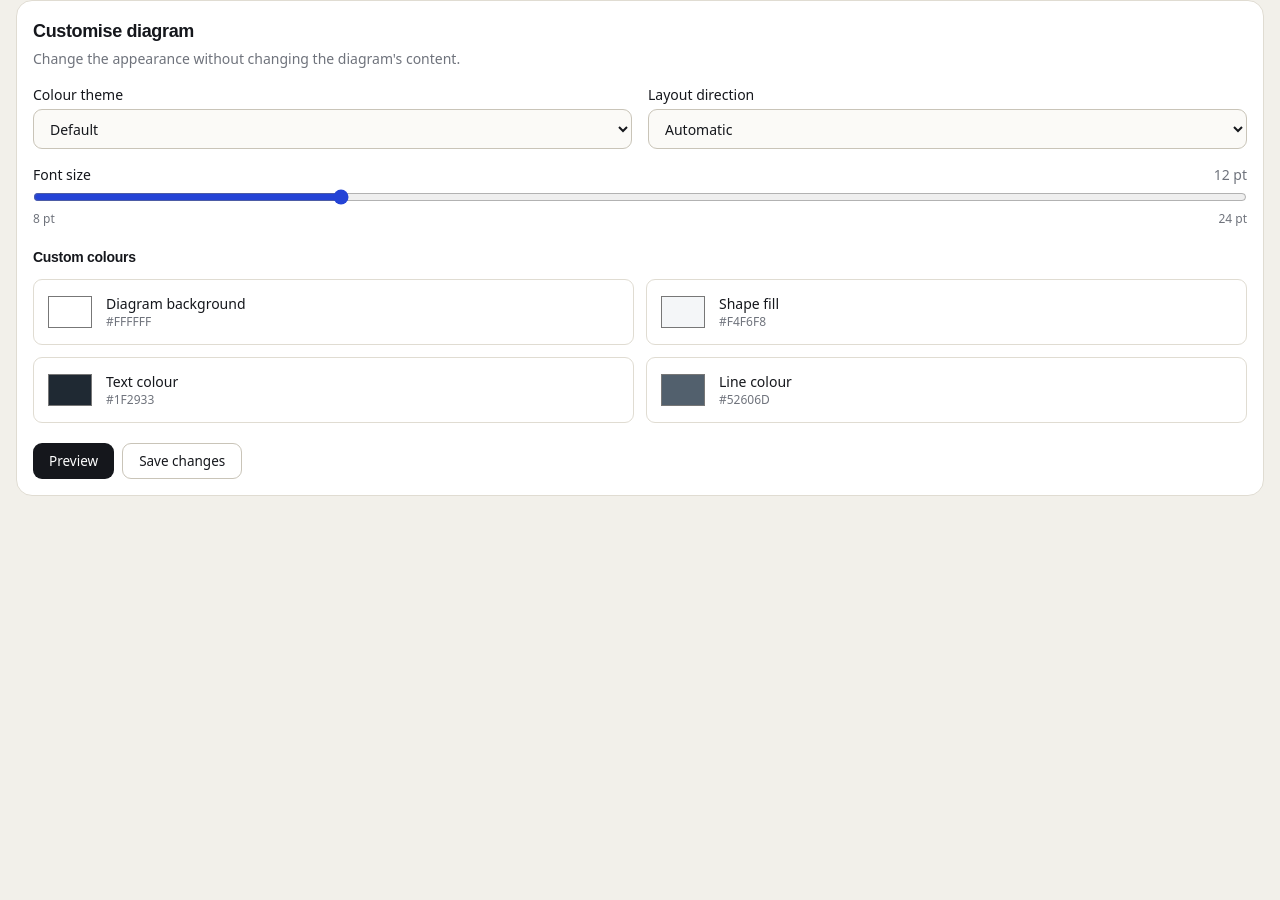
Test: StylePanel › asks for confirmation before saving low-contrast colours
The width and height of the screenshot is (1280, 900).
Check: the heading "Customise diagram" is shown, box [33,21,194,41]
Type "#ffffff" into the colour field named "Text colour" at (70, 390), box [46,370,94,410]
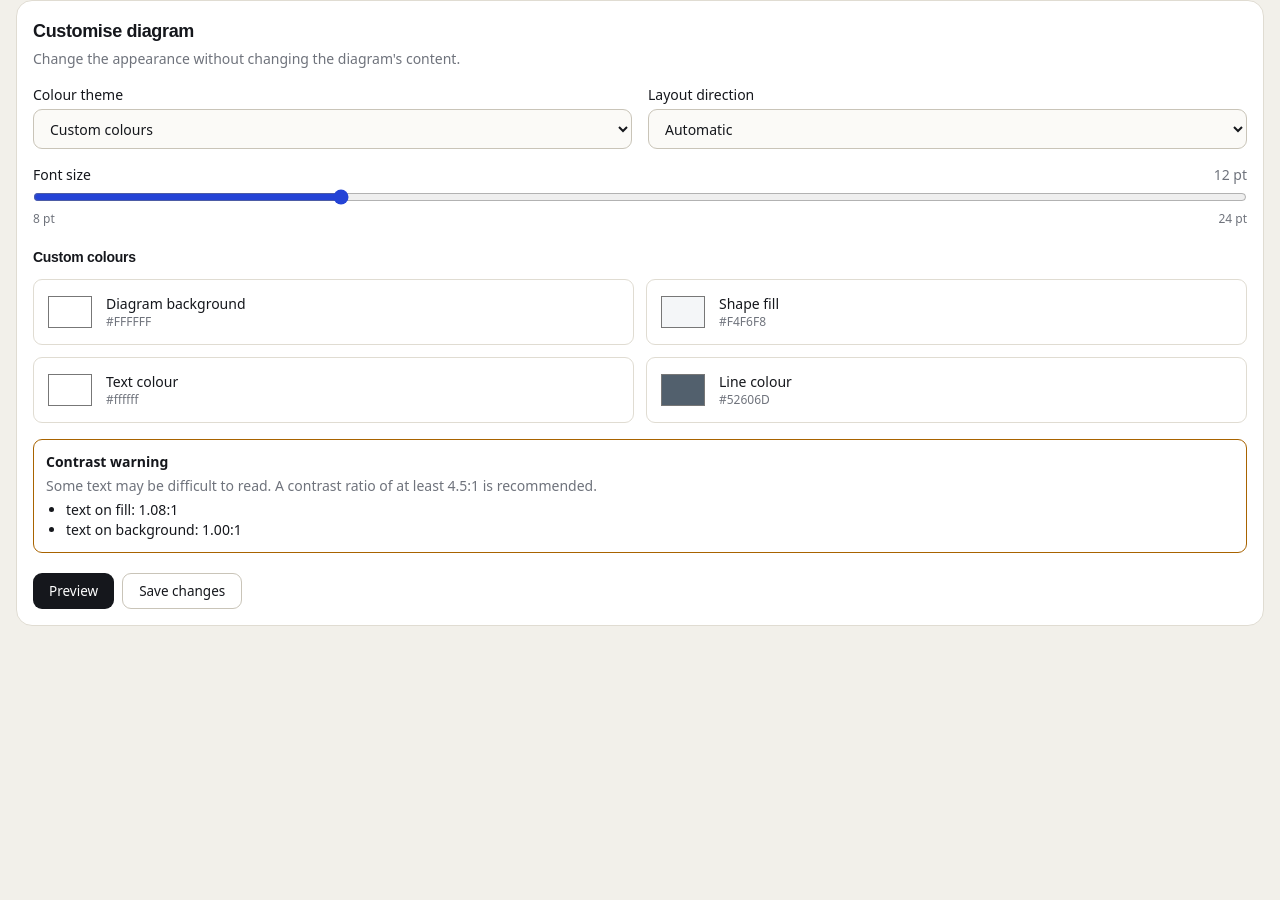
Click the button "Save changes" at (182, 591), box [122,573,242,609]
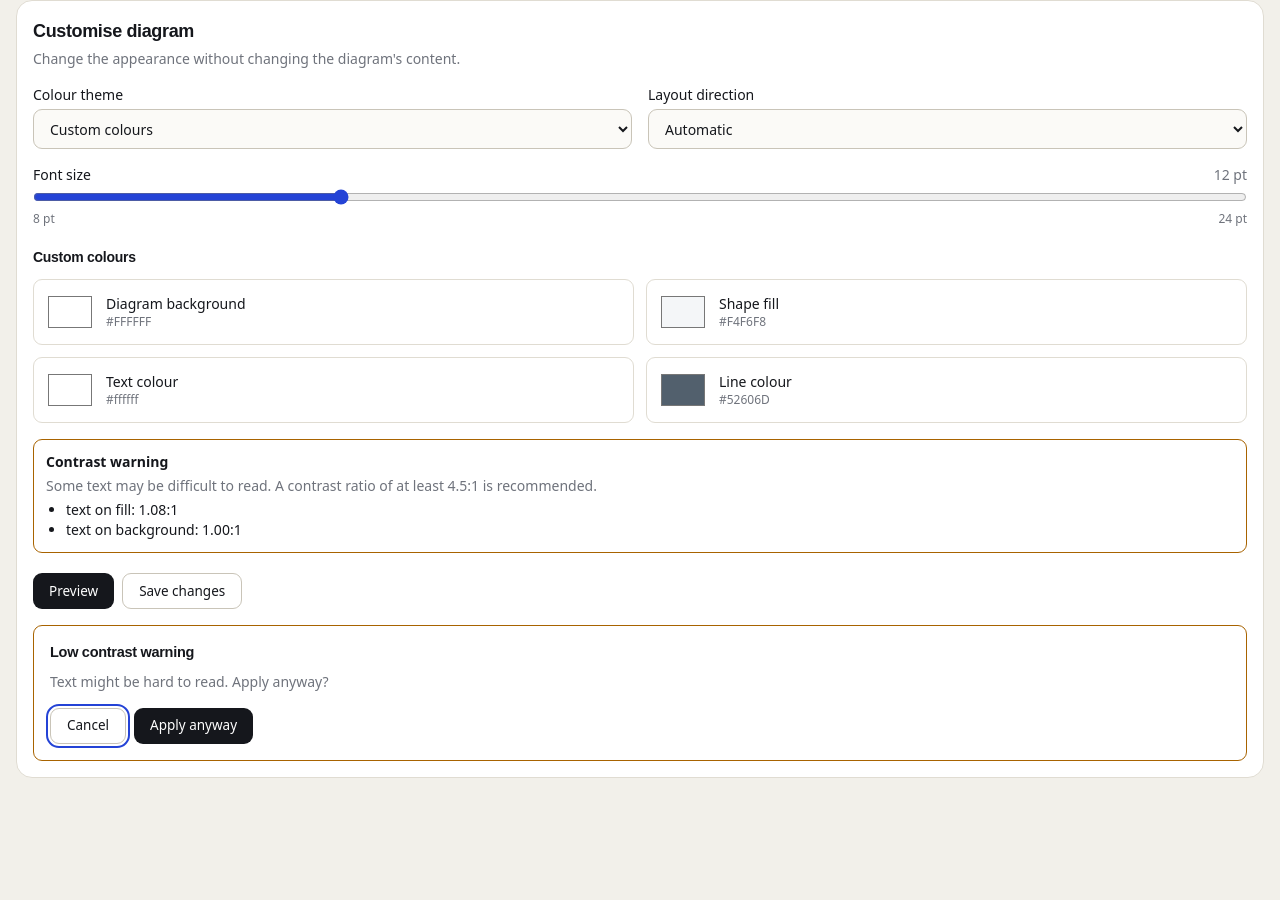
Check: the text "Text might be hard to read. Apply anyway?" is shown, box [50,672,329,690]
Click the button "Cancel" at (88, 726), box [50,708,126,744]
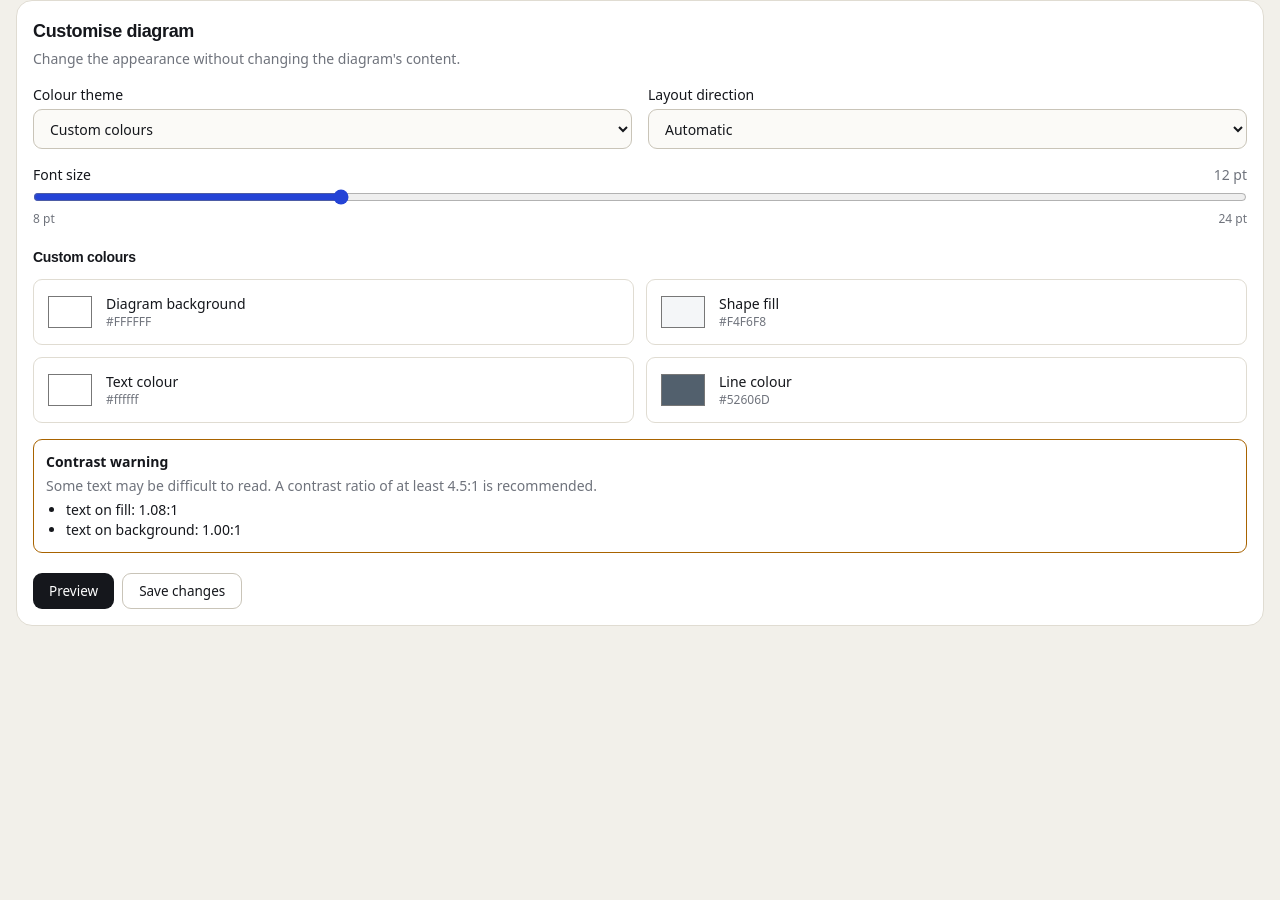
Check: the heading "Low contrast warning" is gone
